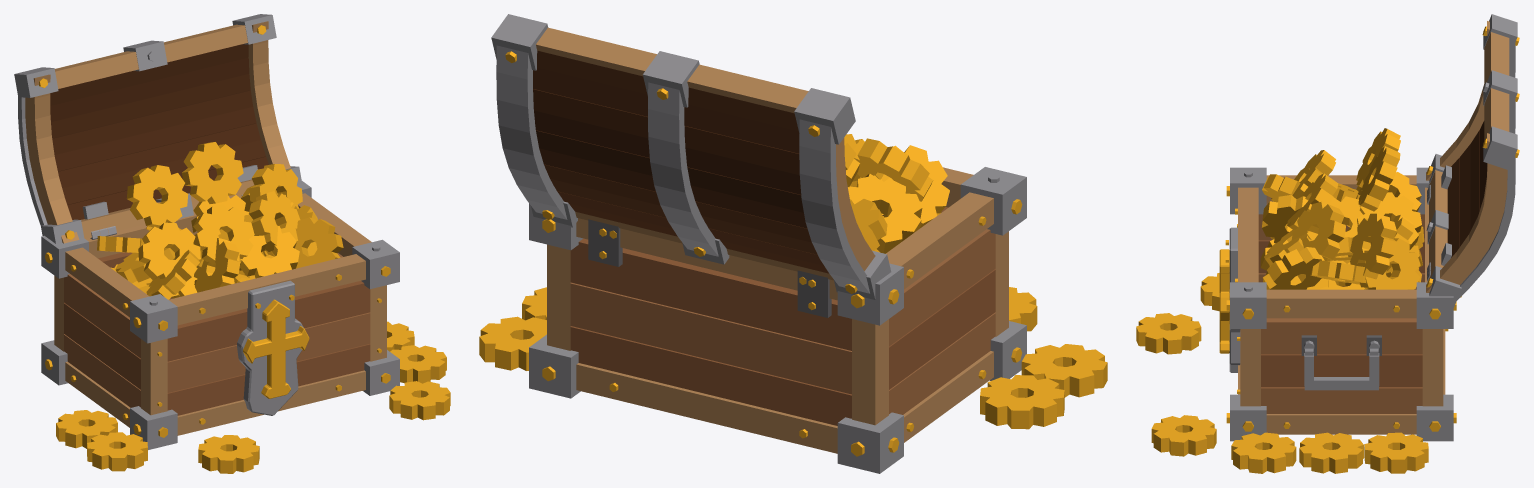
The model's file is gearsChest_Optimized_v2.fbx.
The picture shows the model from 3 angles, left to right: view 1: azimuth 30°, elevation 25°; view 2: azimuth 150°, elevation 25°; view 3: azimuth 270°, elevation 25°; orthographic projection. The views are drawn at different scales.
Parts seen in each view (by area): view 1: Static_Body, Chest_Lid, Gear_Pile; view 2: Static_Body, Chest_Lid, Gear_Pile; view 3: Static_Body, Gear_Pile, Chest_Lid.
Part boxes in pixels (box(x1,y1,x2,y2)): Static_Body: box(41, 181, 399, 449); Chest_Lid: box(14, 14, 302, 243); Gear_Pile: box(56, 142, 450, 473); Static_Body: box(529, 167, 1026, 473); Chest_Lid: box(491, 14, 891, 299); Gear_Pile: box(479, 134, 1107, 429); Static_Body: box(1219, 167, 1456, 441); Gear_Pile: box(1136, 128, 1428, 473); Chest_Lid: box(1426, 14, 1519, 307).
Size of the model in its own units: 521 by 388 by 448.
Materials: 1 (1 with a texture image).
